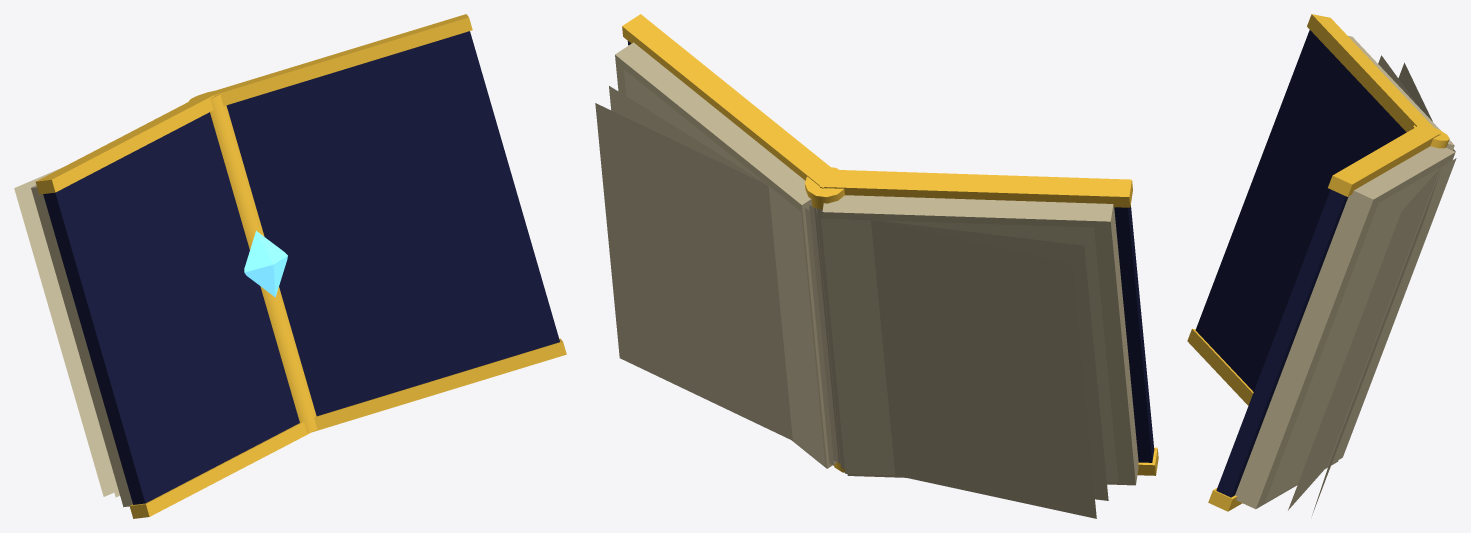
Rendered from back_eqen4.glb.
3 views of the same model, side by side, from view 1: azimuth 30°, elevation 25°; view 2: azimuth 150°, elevation 25°; view 3: azimuth 270°, elevation 25° (orthographic). The views are drawn at different scales.
Bounding box in the file's own units: 2.03 × 1.5 × 0.9664.
